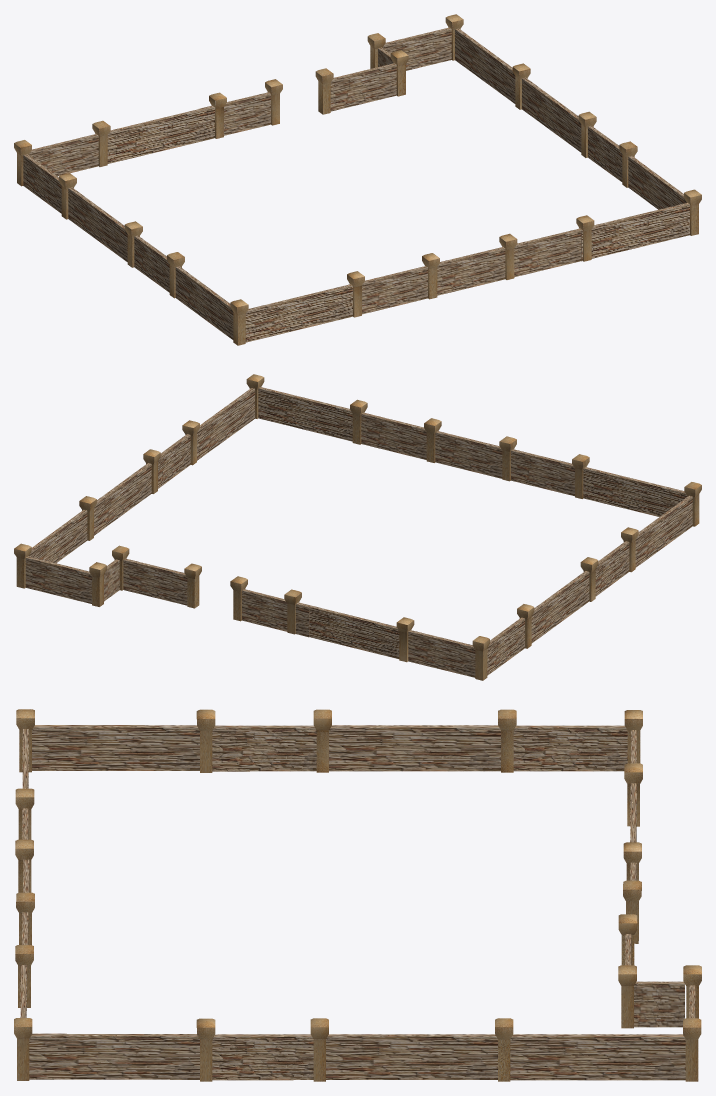
The model's file is paredes.obj.
The picture shows the model from 3 angles, top to bottom: view 1: azimuth 30°, elevation 25°; view 2: azimuth 150°, elevation 25°; view 3: azimuth 270°, elevation 25°; orthographic projection. The views are drawn at different scales.
Parts seen in each view (by area): view 1: brick_wall_with_proxy.005, brick_wall_with_proxy.001_brick_wall_with_proxy.006, brick_wall_with_proxy.002_brick_wall_with_proxy.001, brick_wall_with_proxy.006_brick_wall_with_proxy.004, brick_wall_with_proxy.003_brick_wall_with_proxy.002, brick_wall_with_proxy.004_brick_wall_with_proxy.003; view 2: brick_wall_with_proxy.005, brick_wall_with_proxy.001_brick_wall_with_proxy.006, brick_wall_with_proxy.002_brick_wall_with_proxy.001, brick_wall_with_proxy.006_brick_wall_with_proxy.004, brick_wall_with_proxy.003_brick_wall_with_proxy.002, brick_wall_with_proxy.004_brick_wall_with_proxy.003; view 3: brick_wall_with_proxy.001_brick_wall_with_proxy.006, brick_wall_with_proxy.005, brick_wall_with_proxy.003_brick_wall_with_proxy.002, brick_wall_with_proxy.004_brick_wall_with_proxy.003, brick_wall_with_proxy.002_brick_wall_with_proxy.001, brick_wall_with_proxy.006_brick_wall_with_proxy.004.
Boxes of the visible parts, box(x1,y1,x2,y2) form: brick_wall_with_proxy.005: box(14, 92, 517, 345); brick_wall_with_proxy.001_brick_wall_with_proxy.006: box(315, 14, 701, 261); brick_wall_with_proxy.002_brick_wall_with_proxy.001: box(514, 215, 594, 277); brick_wall_with_proxy.006_brick_wall_with_proxy.004: box(199, 79, 282, 135); brick_wall_with_proxy.003_brick_wall_with_proxy.002: box(134, 235, 184, 298); brick_wall_with_proxy.004_brick_wall_with_proxy.003: box(588, 126, 637, 187); brick_wall_with_proxy.005: box(284, 418, 701, 680); brick_wall_with_proxy.001_brick_wall_with_proxy.006: box(14, 374, 364, 608); brick_wall_with_proxy.002_brick_wall_with_proxy.001: box(350, 399, 426, 459); brick_wall_with_proxy.006_brick_wall_with_proxy.004: box(230, 576, 310, 637); brick_wall_with_proxy.003_brick_wall_with_proxy.002: box(595, 527, 638, 596); brick_wall_with_proxy.004_brick_wall_with_proxy.003: box(158, 420, 199, 488); brick_wall_with_proxy.001_brick_wall_with_proxy.006: box(14, 914, 701, 1081); brick_wall_with_proxy.005: box(15, 709, 642, 944); brick_wall_with_proxy.003_brick_wall_with_proxy.002: box(196, 709, 316, 772); brick_wall_with_proxy.004_brick_wall_with_proxy.003: box(196, 1018, 313, 1081); brick_wall_with_proxy.002_brick_wall_with_proxy.001: box(15, 912, 33, 1007); brick_wall_with_proxy.006_brick_wall_with_proxy.004: box(623, 862, 641, 943).
Size of the model in its own units: 5700 by 484 by 5224.
